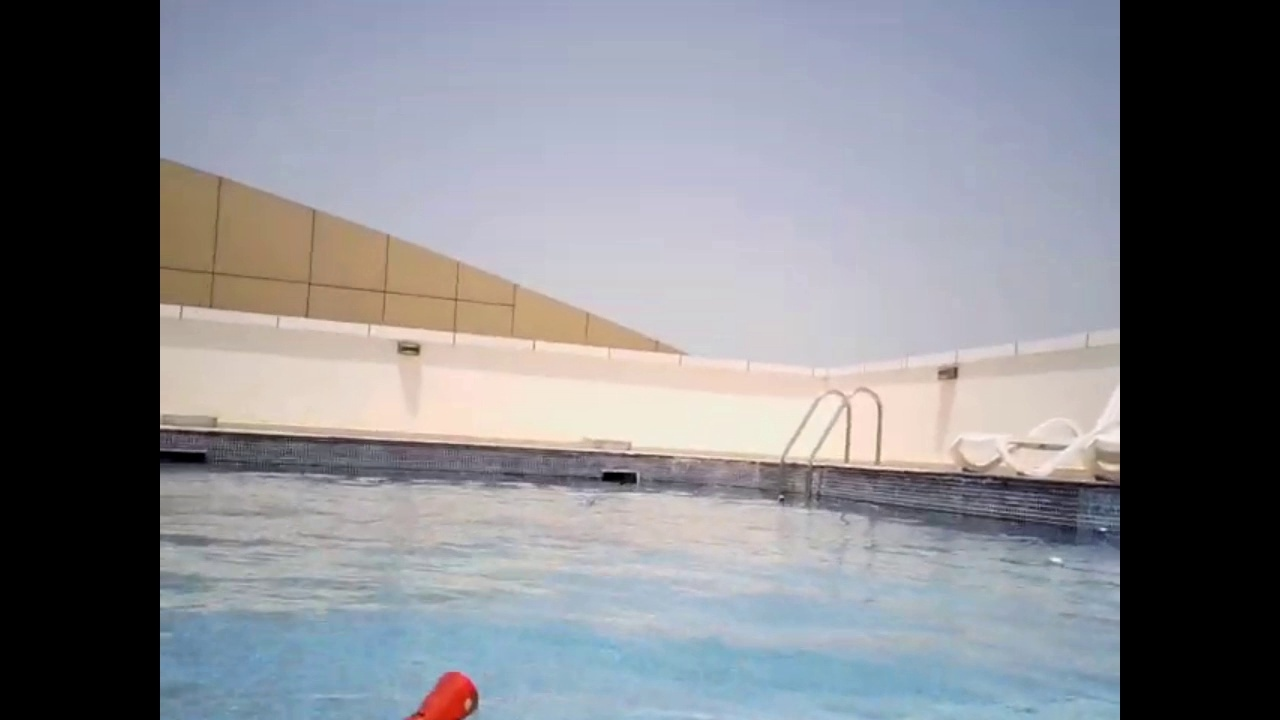debris: (384, 668, 492, 720), (1042, 552, 1067, 575), (1090, 519, 1111, 540), (578, 495, 599, 513), (774, 491, 790, 506)
